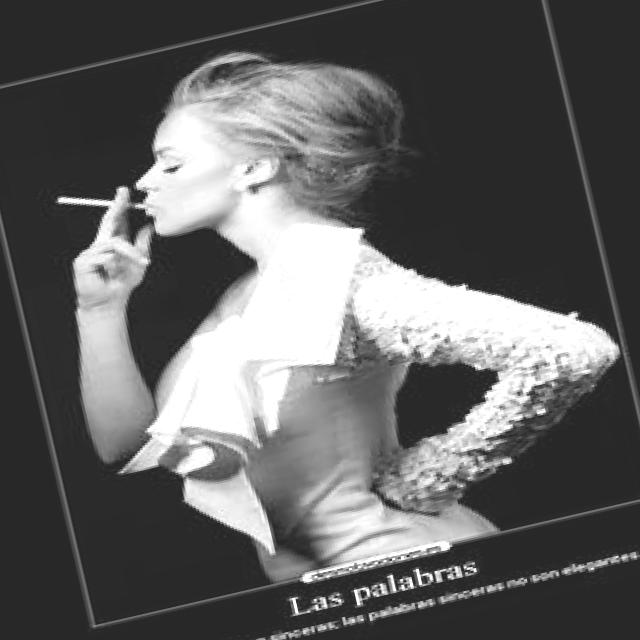smoke: (50, 170, 165, 242)
